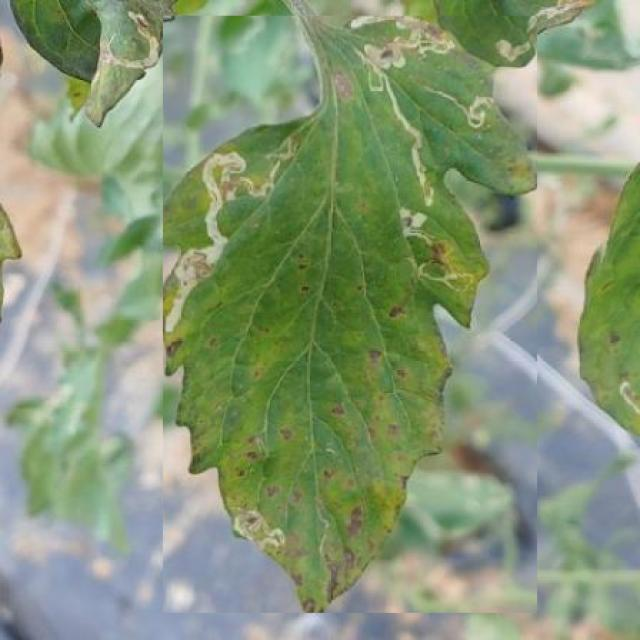Leaf Miner: (162, 16, 538, 614)
